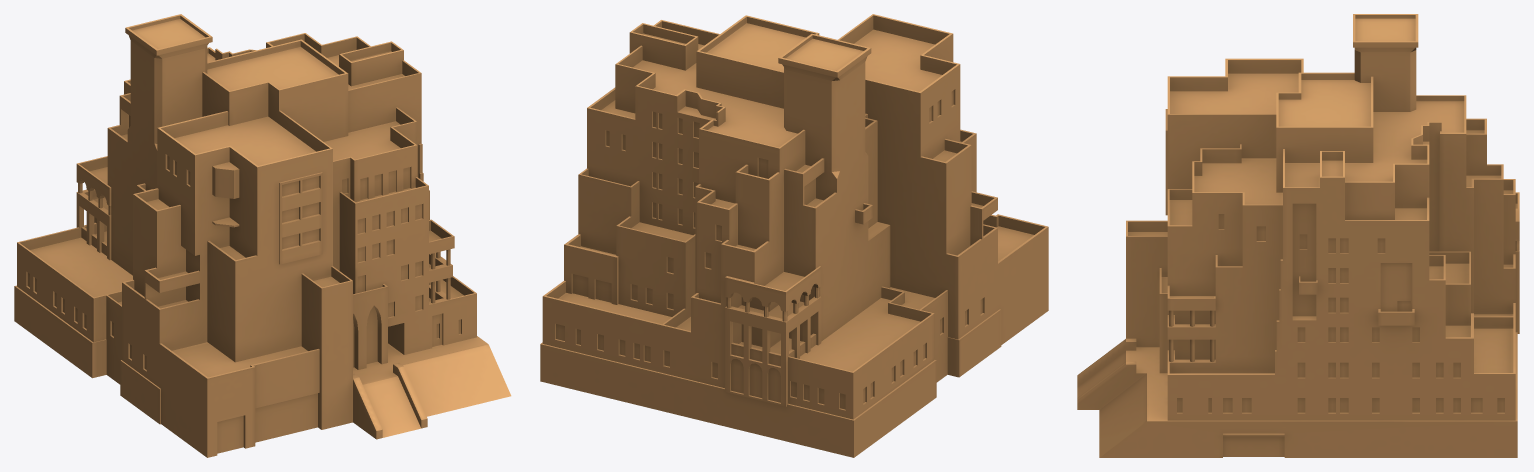
The model's file is dubaimunicipality.gltf.
The picture shows the model from 3 angles, left to right: view 1: azimuth 30°, elevation 25°; view 2: azimuth 150°, elevation 25°; view 3: azimuth 270°, elevation 25°; orthographic projection. The views are drawn at different scales.
Parts seen in each view (by area): view 1: dubaimunicipality; view 2: dubaimunicipality; view 3: dubaimunicipality.
Boxes of the visible parts, x1=… form: dubaimunicipality: x1=14, y1=14, x2=511, y2=457; dubaimunicipality: x1=540, y1=14, x2=1048, y2=457; dubaimunicipality: x1=1077, y1=14, x2=1519, y2=457.
Size of the model in its own units: 37.67 by 37.38 by 46.01.
Materials: 1 (1 with a texture image).
